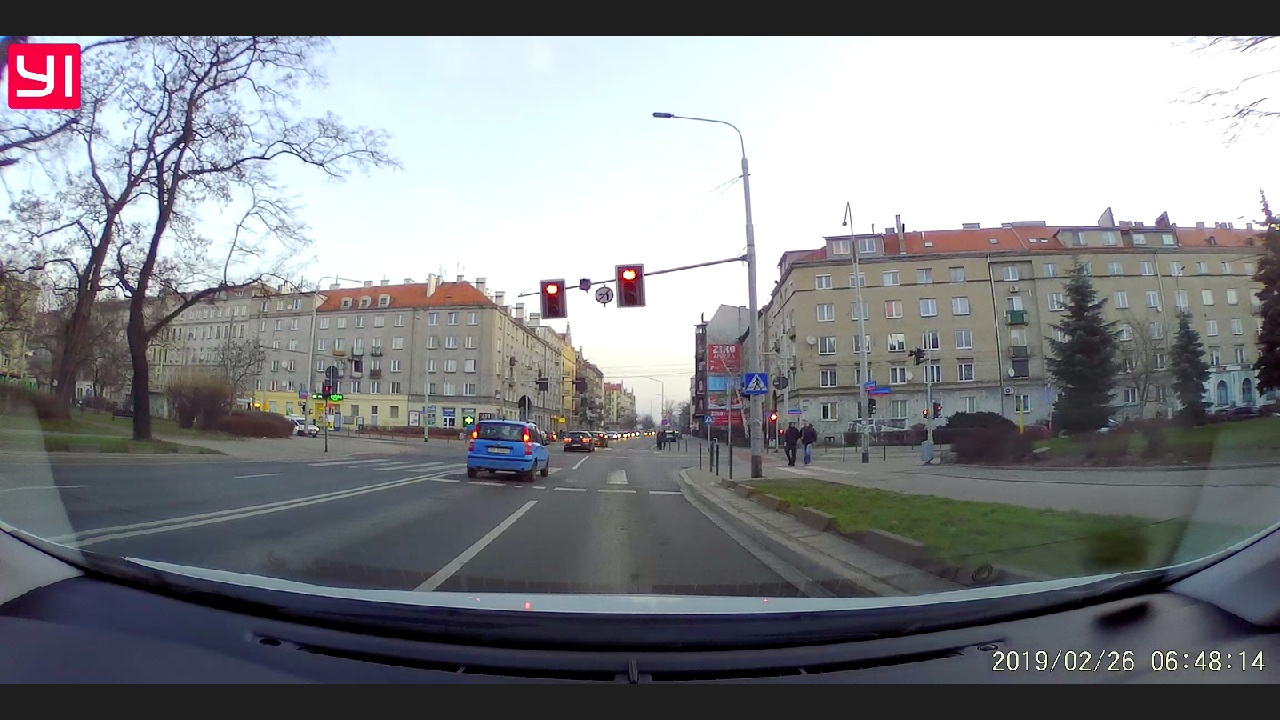B21: (592, 283, 614, 304)
D6: (742, 368, 772, 398)
